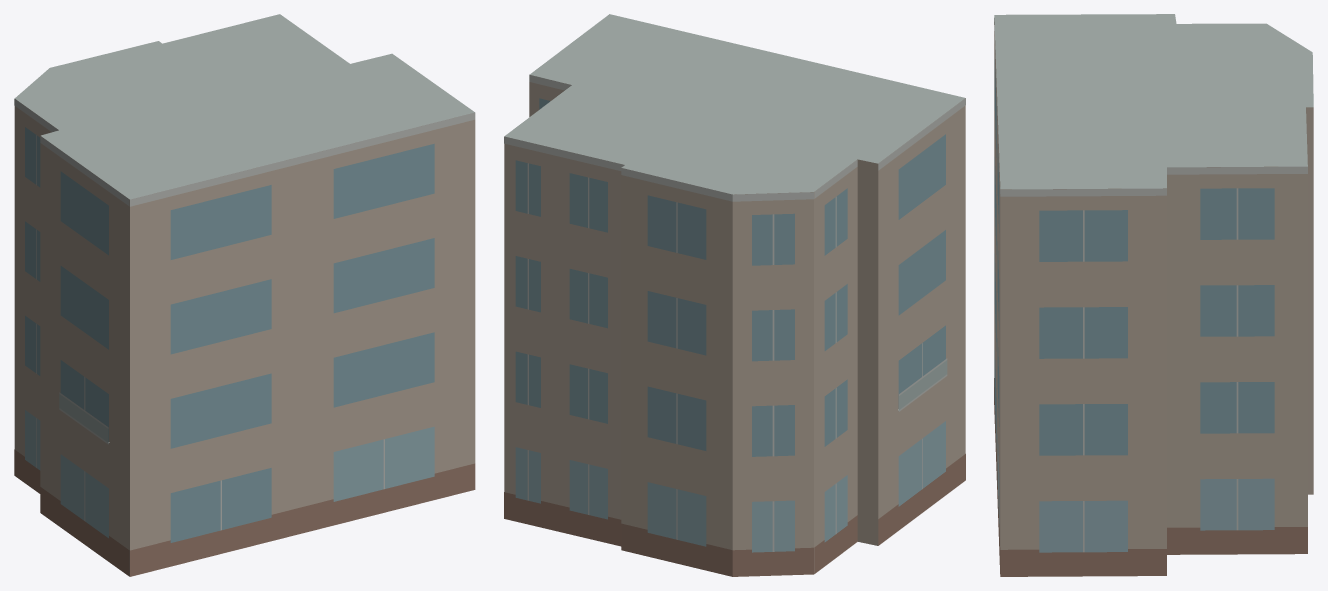
The model's file is survey-upis-32617853.glb.
3 views of the same model, side by side, from view 1: azimuth 30°, elevation 25°; view 2: azimuth 150°, elevation 25°; view 3: azimuth 270°, elevation 25° (orthographic). The views are drawn at different scales.
Parts seen in each view (by area): view 1: survey-upis-32617853.tmp; view 2: survey-upis-32617853.tmp; view 3: survey-upis-32617853.tmp.
Boxes of the visible parts, x1,y1,x2,y2 form: survey-upis-32617853.tmp: (14,14,475,576); survey-upis-32617853.tmp: (504,14,965,576); survey-upis-32617853.tmp: (994,14,1313,576).
Bounding box in the file's own units: 12.56 × 12.9 × 9.65.
